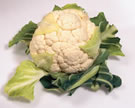cauliflower: (29, 8, 100, 75)
